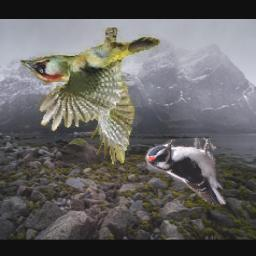Woodpecker: (19, 28, 162, 167), (146, 139, 227, 205)
